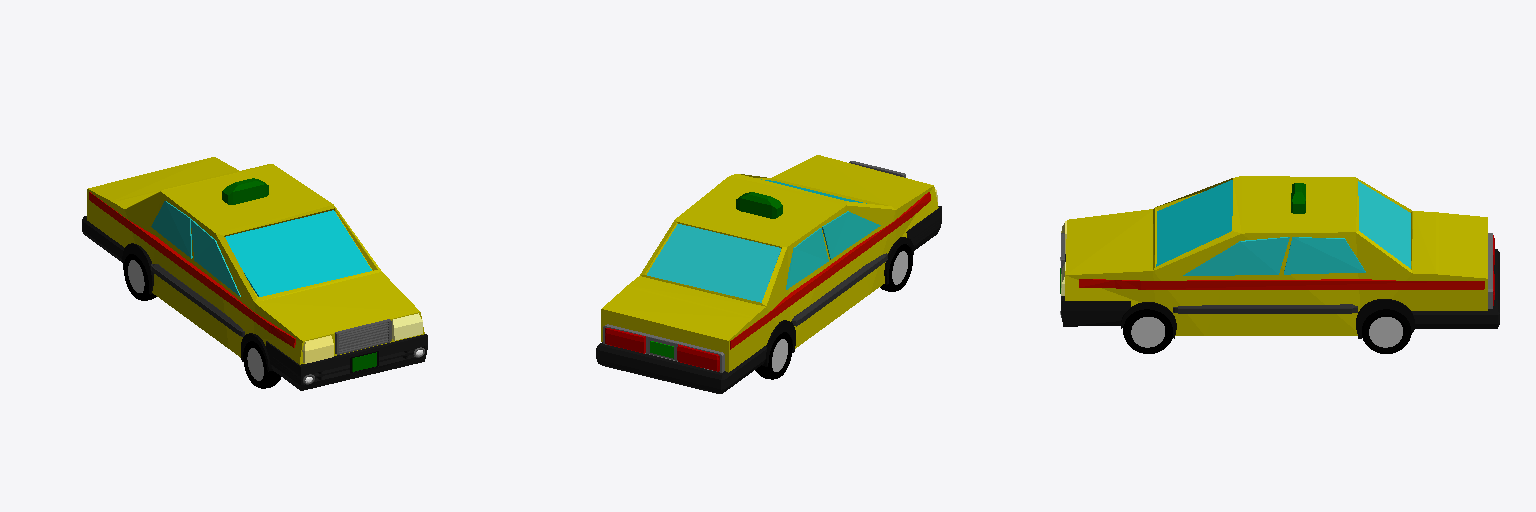
File: taxi.obj
3 views of the same model, side by side, from view 1: azimuth 30°, elevation 25°; view 2: azimuth 150°, elevation 25°; view 3: azimuth 270°, elevation 25° (orthographic).
Visible parts, largest first — view 1: Cube, 立方体.012_立方体.015, 立方体_立方体.001, 立方体.010_立方体.011, 立方体.015_立方体.018, 立方体.005_立方体.006, 立方体.014_立方体.017, 立方体.016_立方体, 立方体.006_立方体.007, 立方体.003_立方体.004, 立方体.004_立方体.005, Torus.005_Torus.008; view 2: Cube, 立方体.013_立方体.016, 立方体.006_立方体.007, 立方体.010_立方体.011, 立方体.015_立方体.018, 立方体.007_立方体.008, 立方体.014_立方体.017, 立方体.016_立方体, 立方体_立方体.001, 立方体.008_立方体.009, Torus.006_Torus.009; view 3: Cube, 立方体.011_立方体.014, 立方体.012_立方体.015, 立方体.015_立方体.018, 立方体.013_立方体.016, 立方体.006_立方体.007, 立方体_立方体.001, 立方体.014_立方体.017, Torus.003, Torus.004_Torus.007, 円柱.002, 円柱.003_円柱.006 (+1 smaller).
Part boxes in pixels (bbox=[...]): Cube: bbox=[87, 157, 424, 364]; 立方体.012_立方体.015: bbox=[225, 210, 371, 296]; 立方体_立方体.001: bbox=[266, 334, 427, 390]; 立方体.010_立方体.011: bbox=[151, 201, 240, 296]; 立方体.015_立方体.018: bbox=[89, 192, 295, 347]; 立方体.005_立方体.006: bbox=[335, 319, 391, 354]; 立方体.014_立方体.017: bbox=[151, 264, 244, 336]; 立方体.016_立方体: bbox=[222, 178, 268, 204]; 立方体.006_立方体.007: bbox=[82, 216, 123, 261]; 立方体.003_立方体.004: bbox=[302, 335, 333, 363]; 立方体.004_立方体.005: bbox=[392, 313, 422, 340]; Torus.005_Torus.008: bbox=[243, 341, 280, 388]; Cube: bbox=[601, 155, 938, 372]; 立方体.013_立方体.016: bbox=[647, 224, 780, 302]; 立方体.006_立方体.007: bbox=[596, 342, 766, 393]; 立方体.010_立方体.011: bbox=[786, 211, 880, 289]; 立方体.015_立方体.018: bbox=[730, 192, 930, 349]; 立方体.007_立方体.008: bbox=[605, 328, 719, 371]; 立方体.014_立方体.017: bbox=[791, 253, 887, 326]; 立方体.016_立方体: bbox=[736, 192, 782, 218]; 立方体_立方体.001: bbox=[906, 206, 941, 250]; 立方体.008_立方体.009: bbox=[603, 324, 724, 372]; Torus.006_Torus.009: bbox=[755, 332, 792, 379]; Cube: bbox=[1065, 176, 1487, 335]; 立方体.011_立方体.014: bbox=[1183, 237, 1365, 275]; 立方体.012_立方体.015: bbox=[1156, 180, 1232, 266]; 立方体.015_立方体.018: bbox=[1079, 279, 1484, 289]; 立方体.013_立方体.016: bbox=[1358, 181, 1410, 268]; 立方体.006_立方体.007: bbox=[1412, 249, 1499, 328]; 立方体_立方体.001: bbox=[1061, 254, 1130, 326]; 立方体.014_立方体.017: bbox=[1173, 304, 1357, 313]; Torus.003: bbox=[1123, 309, 1172, 353]; Torus.004_Torus.007: bbox=[1362, 309, 1411, 353]; 円柱.002: bbox=[1131, 317, 1164, 347]; 円柱.003_円柱.006: bbox=[1369, 317, 1402, 347].
Bounding box in the file's own units: 2.93 × 2.77 × 8.17.